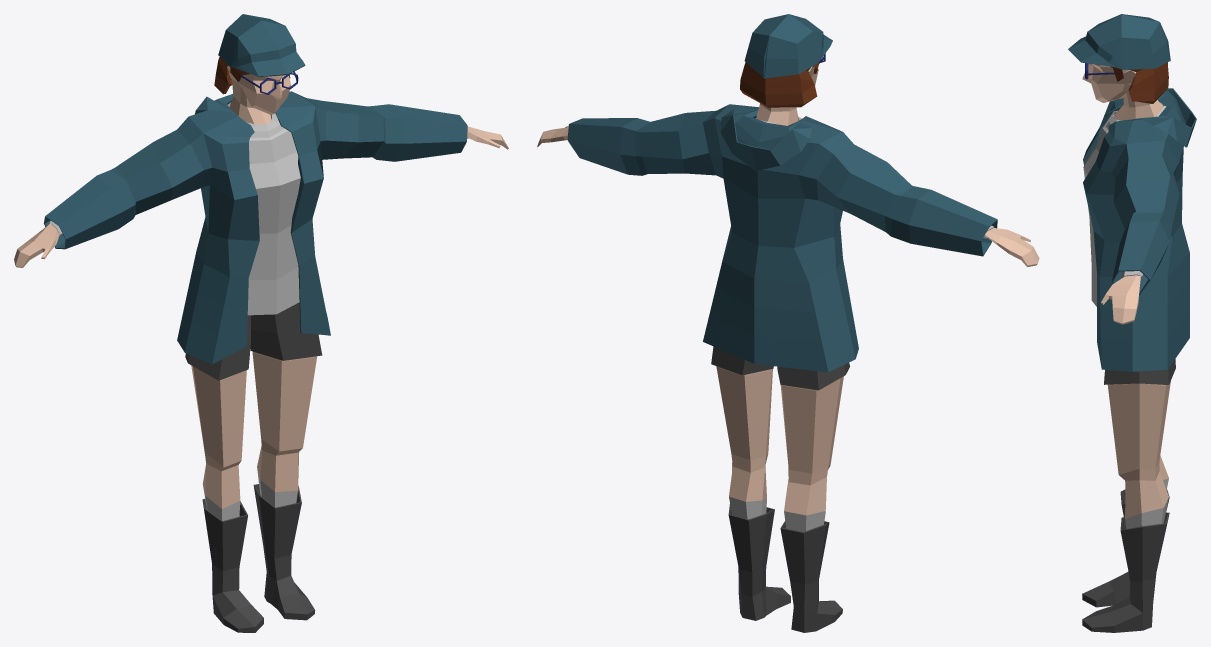
Rendered from camera girl.fbx.
3 views of the same model, side by side, from view 1: azimuth 30°, elevation 25°; view 2: azimuth 150°, elevation 25°; view 3: azimuth 270°, elevation 25° (orthographic).
Parts seen in each view (by area): view 1: coat, body, boots, shirt, pants, hat; view 2: coat, body, boots, hat, hair, pants; view 3: coat, body, boots, hat, hair, shirt, pants.
Part boxes in pixels (x1=…): coat: x1=43, y1=91, x2=467, y2=364; body: x1=14, y1=66, x2=508, y2=520; boots: x1=202, y1=484, x2=315, y2=632; shirt: x1=49, y1=102, x2=300, y2=315; pants: x1=185, y1=302, x2=322, y2=380; hat: x1=218, y1=14, x2=305, y2=77; coat: x1=567, y1=104, x2=997, y2=372; body: x1=537, y1=66, x2=1039, y2=531; boots: x1=728, y1=504, x2=842, y2=632; hat: x1=744, y1=14, x2=832, y2=78; hair: x1=740, y1=62, x2=819, y2=107; pants: x1=711, y1=346, x2=849, y2=390; coat: x1=1083, y1=88, x2=1196, y2=371; body: x1=1082, y1=63, x2=1170, y2=528; boots: x1=1082, y1=489, x2=1169, y2=632; hat: x1=1068, y1=14, x2=1170, y2=69; hair: x1=1110, y1=62, x2=1168, y2=103; shirt: x1=1083, y1=102, x2=1166, y2=306; pants: x1=1104, y1=359, x2=1175, y2=384.
Size of the model in its own units: 290 by 333 by 65.08.
